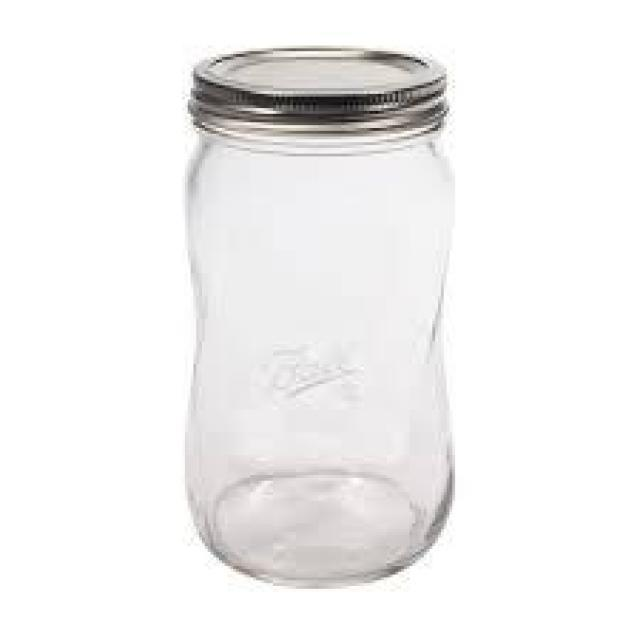glass: (176, 36, 466, 594)
